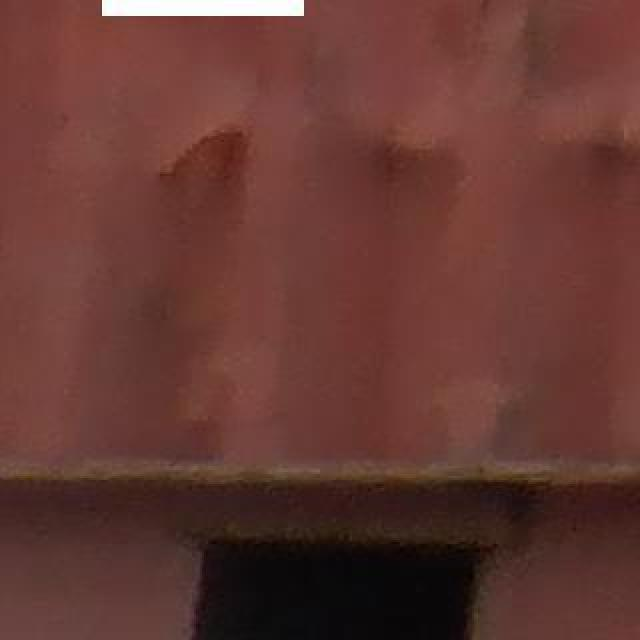dent: (123, 77, 640, 223)
